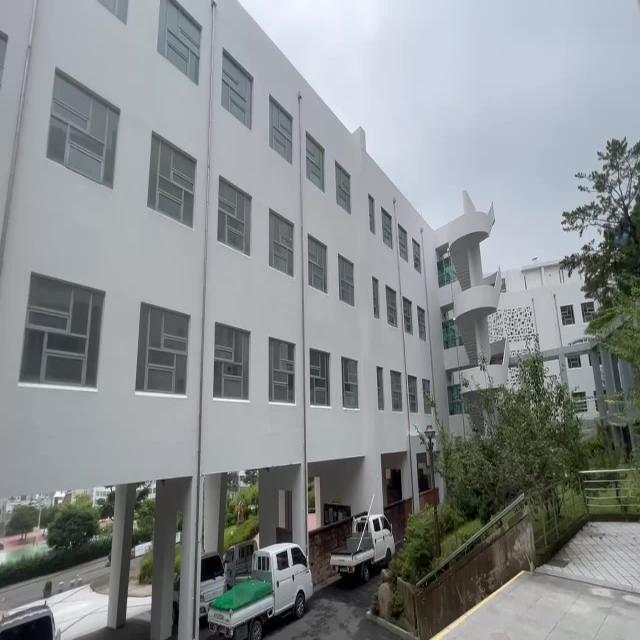building: (28, 9, 413, 456)
